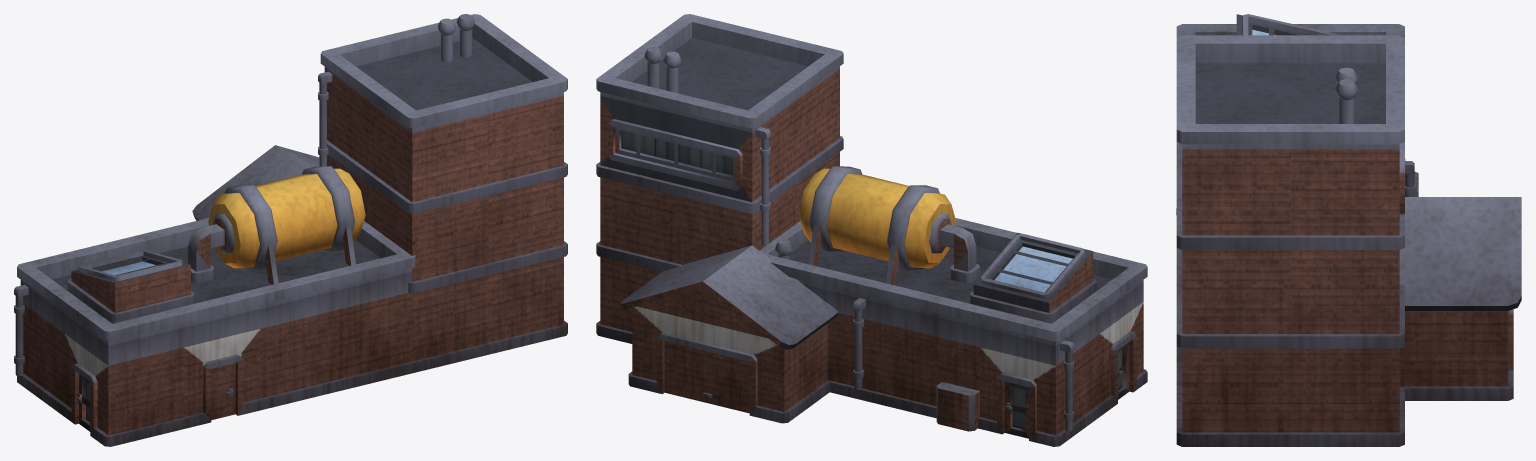
Rendered from building-r-brown.glb.
The picture shows the model from 3 angles, left to right: view 1: azimuth 30°, elevation 25°; view 2: azimuth 150°, elevation 25°; view 3: azimuth 270°, elevation 25°; orthographic projection. The views are drawn at different scales.
Parts seen in each view (by area): view 1: building-r; view 2: building-r; view 3: building-r.
Part boxes in pixels (x1,y1,x2,y2): building-r: (14,14,567,446); building-r: (596,14,1147,446); building-r: (1176,14,1521,446).
Size of the model in its own units: 2.48 by 1.39 by 1.27.
1 material, 1 textured.
